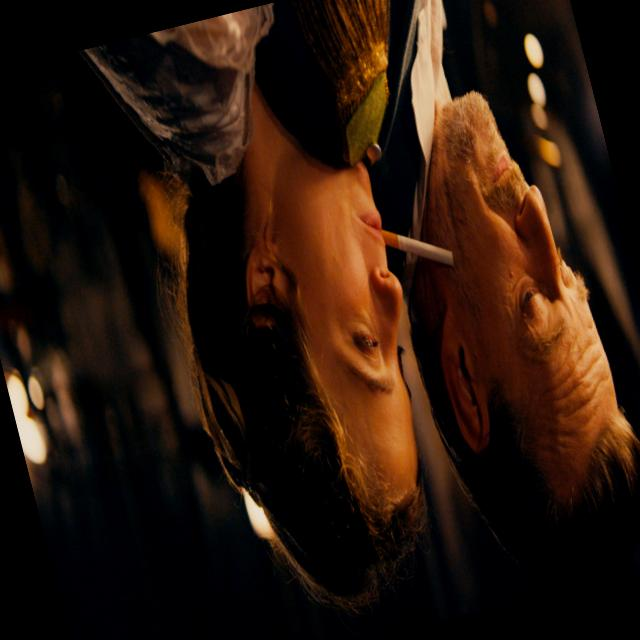smoke: (361, 195, 464, 296)
